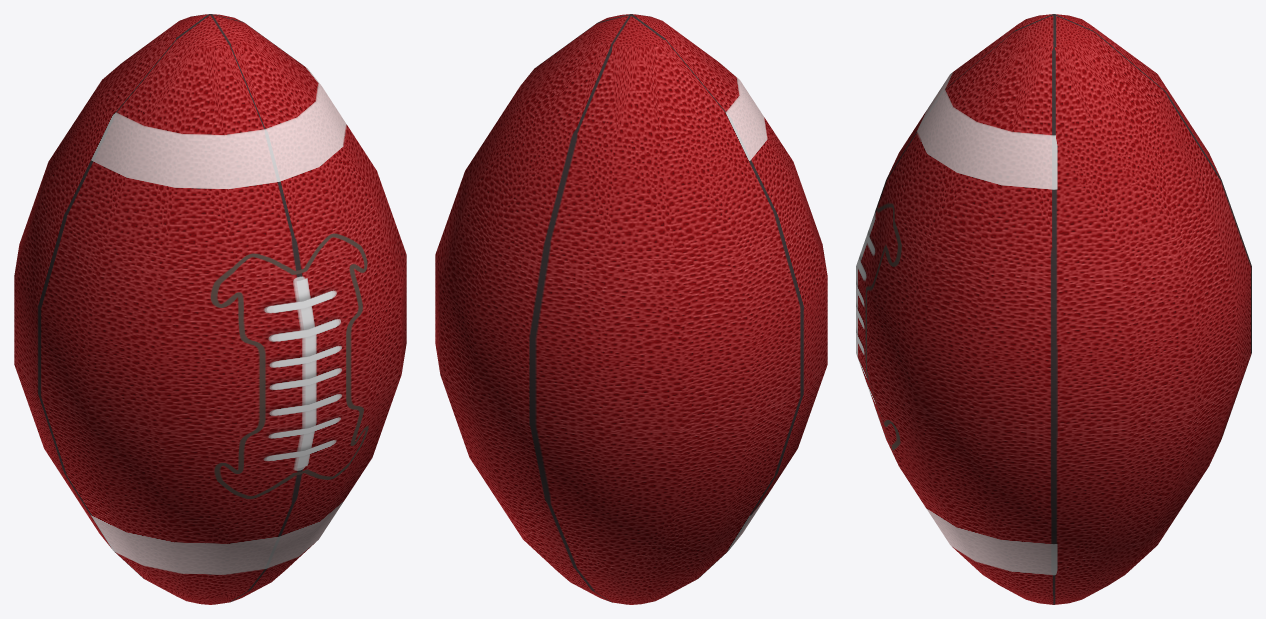
Rendered from FootBall.fbx.
3 views of the same model, side by side, from view 1: azimuth 30°, elevation 25°; view 2: azimuth 150°, elevation 25°; view 3: azimuth 270°, elevation 25° (orthographic).
Visible parts, largest first — view 1: Football; view 2: Football; view 3: Football.
Part boxes in pixels (left/top/right/bottom): Football: left=14, top=14, right=406, bottom=604; Football: left=435, top=14, right=827, bottom=604; Football: left=856, top=14, right=1251, bottom=604.
Bounding box in the file's own units: 35.27 × 58.12 × 35.27.
Materials: 1 (1 with a texture image).
